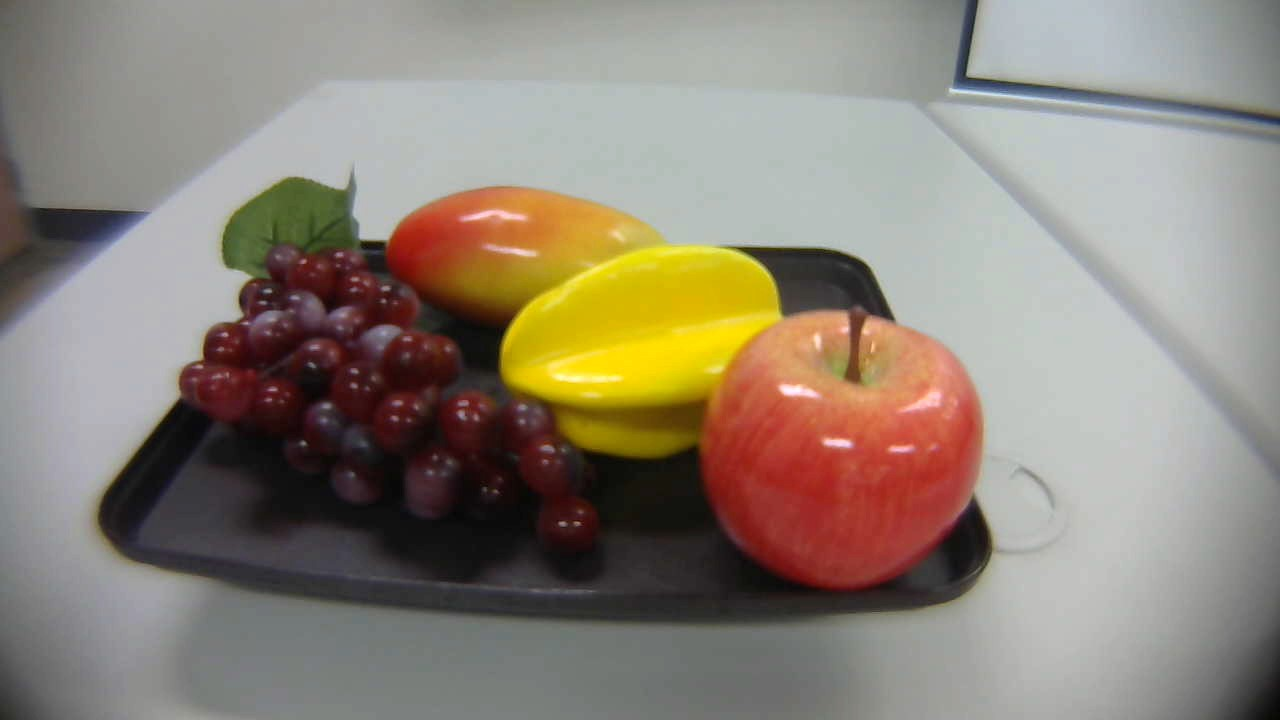grape: (162, 161, 618, 574)
red apple: (703, 303, 983, 589)
red mango: (385, 186, 687, 324)
star fruit: (495, 243, 793, 469)
